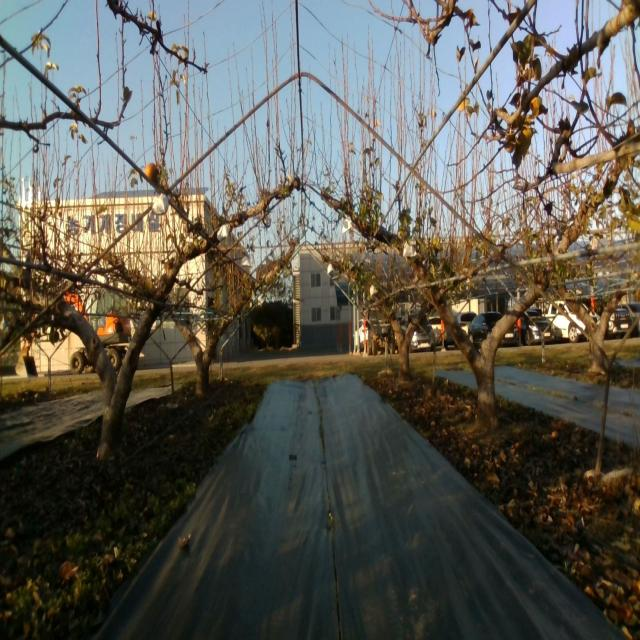pearbags: (151, 192, 171, 215), (402, 239, 417, 257), (217, 224, 230, 242)
